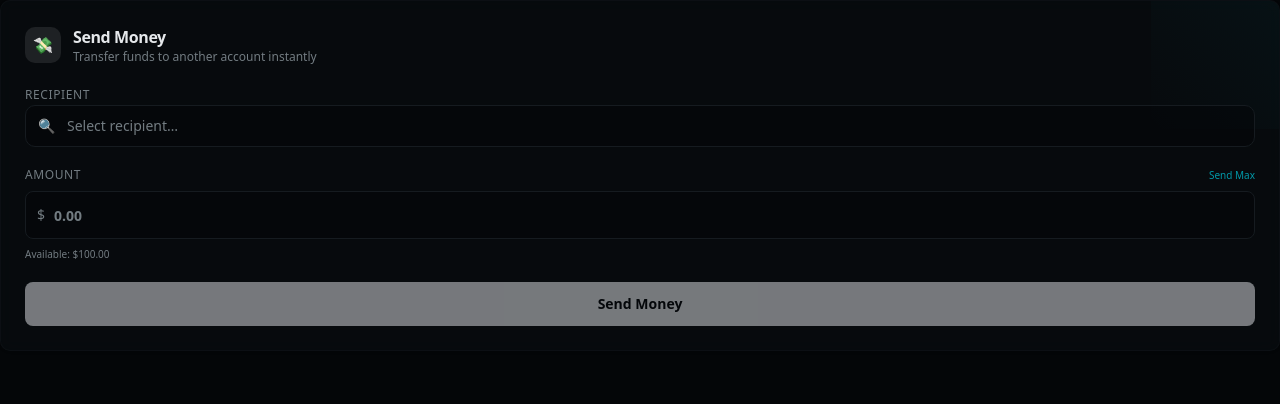
Scenario: TransferForm › shows validation error for amount exceeding balance
The image size is (1280, 404).
# Type an amount exceeding balance
Type "200" into the number field with placeholder "0.00". click: (640, 215)
box: x1=25 y1=191 x2=1255 y2=239
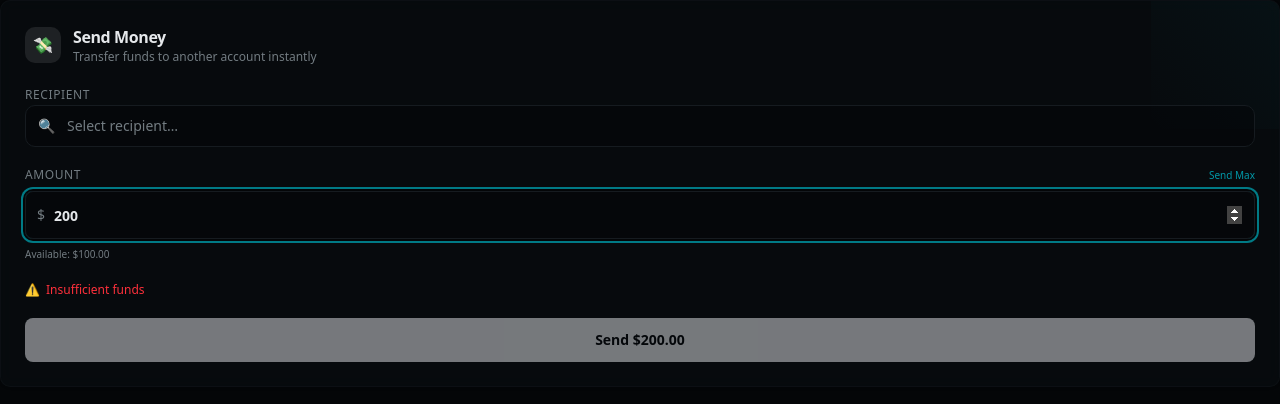
Expected: the text "Insufficient funds" is shown, x1=46 y1=281 x2=145 y2=298
